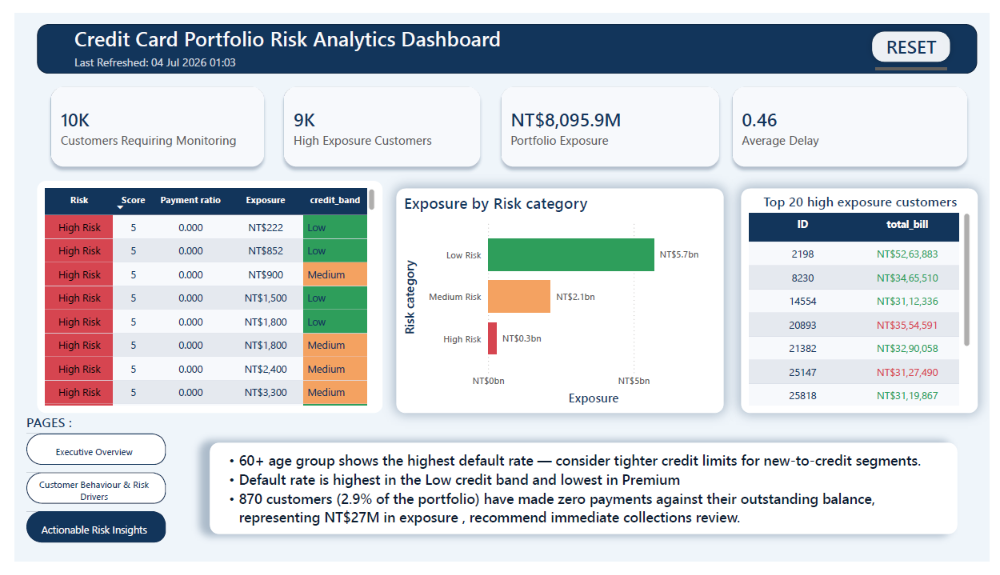

What the dashboard file says about the page in this screenshot:
{"tool":"powerbi","page":{"name":"Actionable Risk Insights ","canvas":[1280,720],"ordinal":2},"visuals":[{"type":"shape","box":[28.6,14.3,1235.7,64.3],"z":0},{"type":"shape","box":[1115.7,14.3,122.9,60],"z":1000},{"type":"pageNavigator","title":"PAGES :","box":[15,525,183.3,171.7],"z":2000},{"type":"textbox","title":"Credit Card Portfolio Risk Analytics Dashboard","box":[72.9,14.3,624.3,64.3],"z":3000},{"type":"actionButton","title":"RESET","box":[1131.4,27.1,92.9,47.1],"z":4000},{"type":"cardVisual","fields":{"Data":["Measures (2).Customers Requiring Monitoring"]},"box":[18.8,67.5,337.5,162.5],"z":5000},{"type":"cardVisual","fields":{"Data":["Measures (2).High Exposure Customers"]},"box":[325,67.5,315,162],"z":6000},{"type":"cardVisual","fields":{"Data":["Measures (2).Total Portfolio Exposure (Formatted)"]},"box":[610,67.5,343.8,162],"z":7000},{"type":"cardVisual","fields":{"Data":["Measures (2).Average Delay"]},"box":[913.8,67.5,366.2,162],"z":8000},{"type":"tableEx","fields":{"Values":["customers.risk_category","customers.risk_score","customers.payment_ratio","customers.total_bill","customers.credit_band"]},"box":[28.8,220,453.8,305],"z":9000},{"type":"clusteredBarChart","fields":{"Category":["customers.risk_category"],"Y":["Sum(customers.Exposure)"]},"box":[501.2,230,430,295],"z":10000},{"type":"tableEx","title":"Top 20 high exposure customers","fields":{"Values":["customers.ID","customers.total_bill"]},"box":[953.8,230,311.2,295],"z":11000},{"type":"textbox","box":[256,564,982,120],"z":11001}]}

Visuals, with their boxes in screenshot pixels (x1, y1, x2, y2), scaled from the page's 1280x720 canvas onto the 1000x575 screenshot:
shape: {"x1": 22, "y1": 11, "x2": 988, "y2": 63}
shape: {"x1": 872, "y1": 11, "x2": 968, "y2": 59}
"PAGES :" pageNavigator: {"x1": 12, "y1": 419, "x2": 155, "y2": 556}
"Credit Card Portfolio Risk Analytics Dashboard" textbox: {"x1": 57, "y1": 11, "x2": 545, "y2": 63}
"RESET" actionButton: {"x1": 884, "y1": 22, "x2": 956, "y2": 59}
cardVisual - Measures (2).Customers Requiring Monitoring: {"x1": 15, "y1": 54, "x2": 278, "y2": 184}
cardVisual - Measures (2).High Exposure Customers: {"x1": 254, "y1": 54, "x2": 500, "y2": 183}
cardVisual - Measures (2).Total Portfolio Exposure (Formatted): {"x1": 477, "y1": 54, "x2": 745, "y2": 183}
cardVisual - Measures (2).Average Delay: {"x1": 714, "y1": 54, "x2": 999, "y2": 183}
tableEx - customers.risk_category x customers.risk_score: {"x1": 22, "y1": 176, "x2": 377, "y2": 419}
clusteredBarChart - customers.risk_category x Sum(customers.Exposure): {"x1": 392, "y1": 184, "x2": 728, "y2": 419}
"Top 20 high exposure customers" tableEx: {"x1": 745, "y1": 184, "x2": 988, "y2": 419}
textbox: {"x1": 200, "y1": 450, "x2": 967, "y2": 546}
